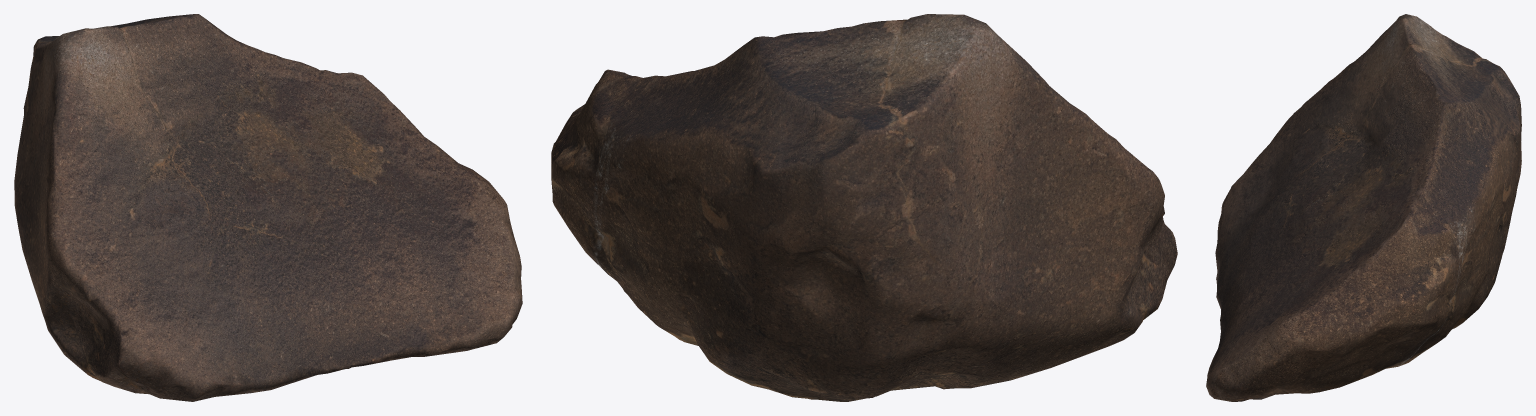
File: SM_ydrodh3_tier_2.gltf
The picture shows the model from 3 angles, left to right: view 1: azimuth 30°, elevation 25°; view 2: azimuth 150°, elevation 25°; view 3: azimuth 270°, elevation 25°; orthographic projection. The views are drawn at different scales.
Parts seen in each view (by area): view 1: ydrodh3_LOD2_TIER2_000; view 2: ydrodh3_LOD2_TIER2_000; view 3: ydrodh3_LOD2_TIER2_000.
Part boxes in pixels (box(x1,y1,x2,y2)): ydrodh3_LOD2_TIER2_000: box(14, 14, 522, 401); ydrodh3_LOD2_TIER2_000: box(551, 14, 1177, 401); ydrodh3_LOD2_TIER2_000: box(1206, 14, 1521, 401).
Bounding box in the file's own units: 0.7428 × 0.495 × 0.5347.
Materials: 1 (1 with a texture image).
